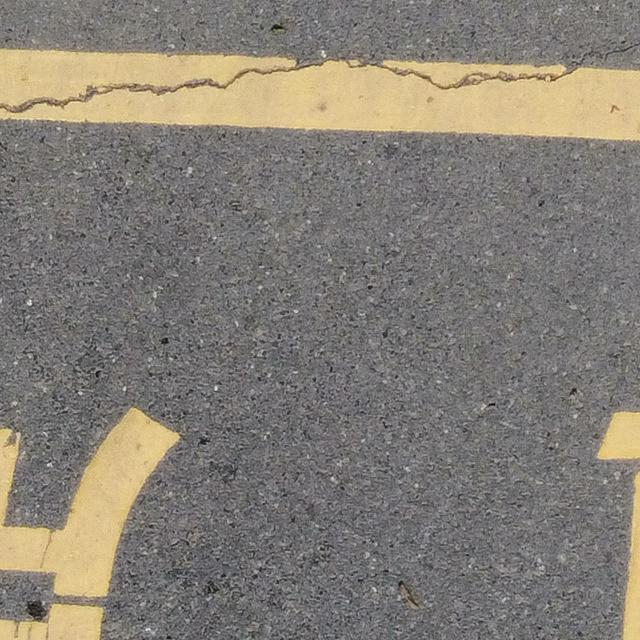TransverseCrack: (1, 43, 640, 113)
